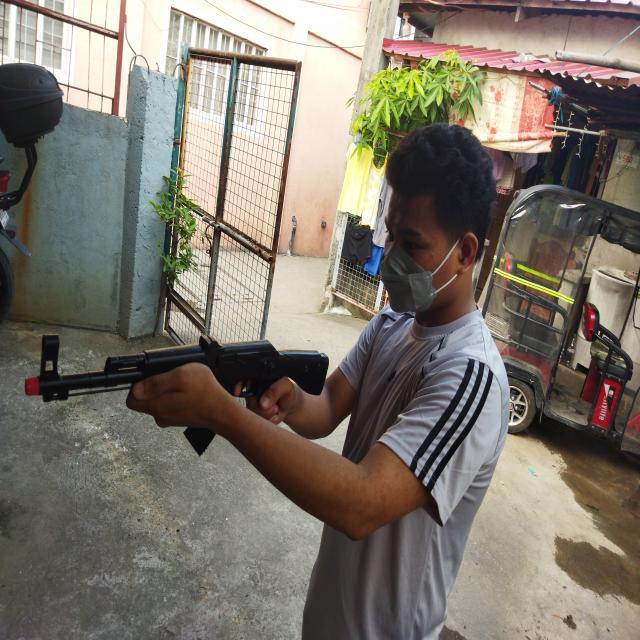rifle: (24, 324, 328, 456)
